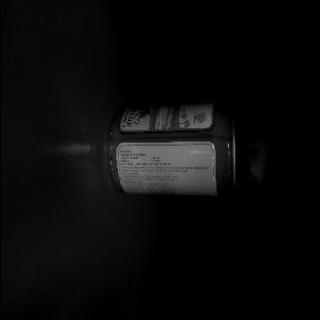alumunium_can: (106, 97, 237, 199)
